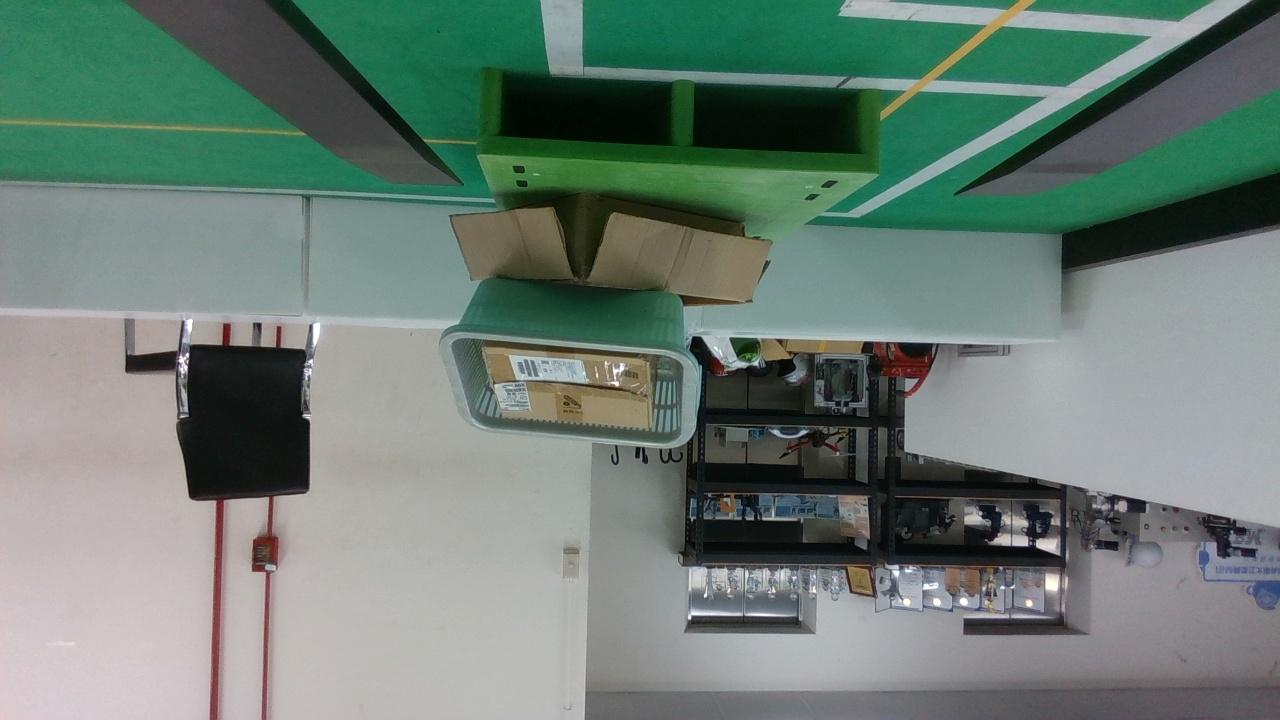Pallet: (473, 70, 882, 172)
